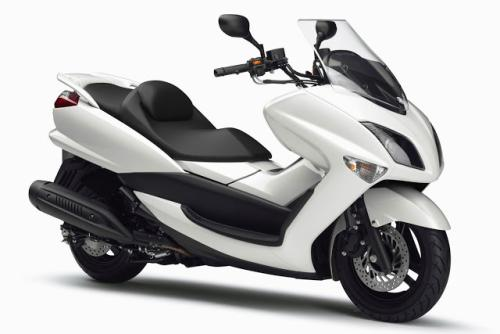motor: (42, 9, 462, 321)
